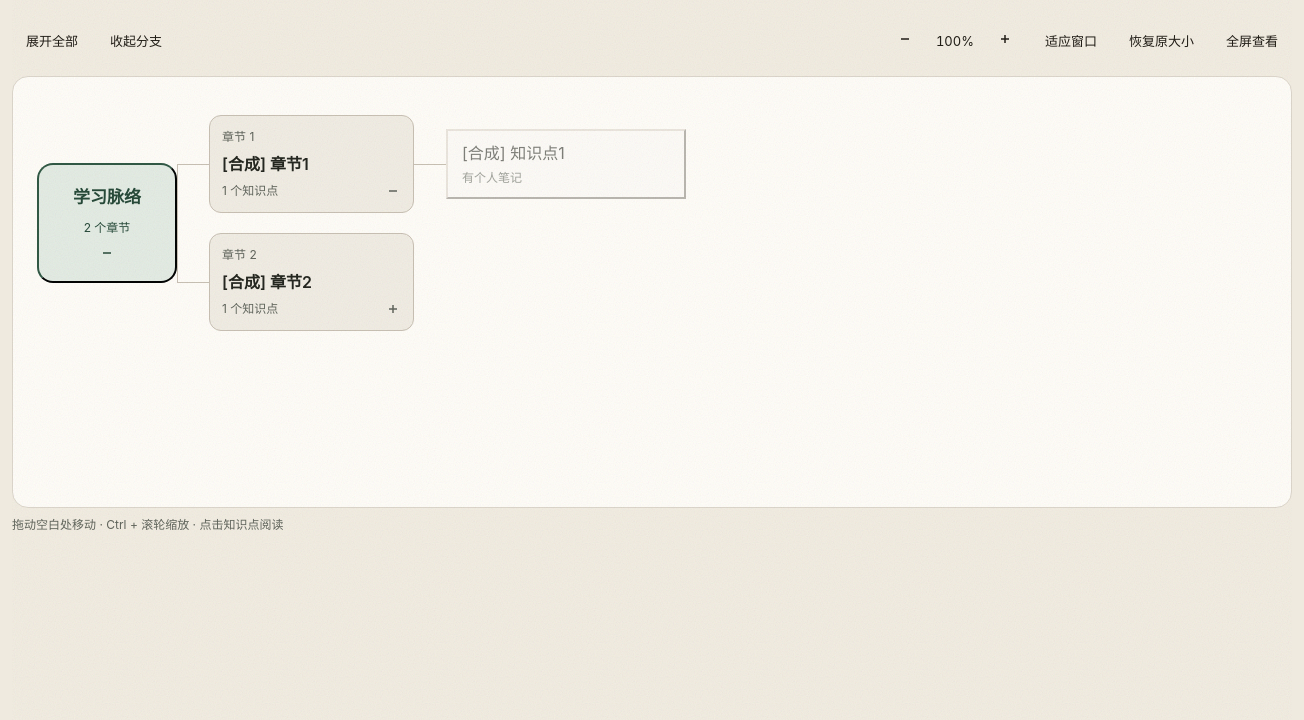
Test: fits the visible map to the viewport and keeps very large maps readable at the minimum scale
The image size is (1304, 720).
Click the button "适应窗口": (1071, 42) left=1031, top=20, right=1111, bottom=64
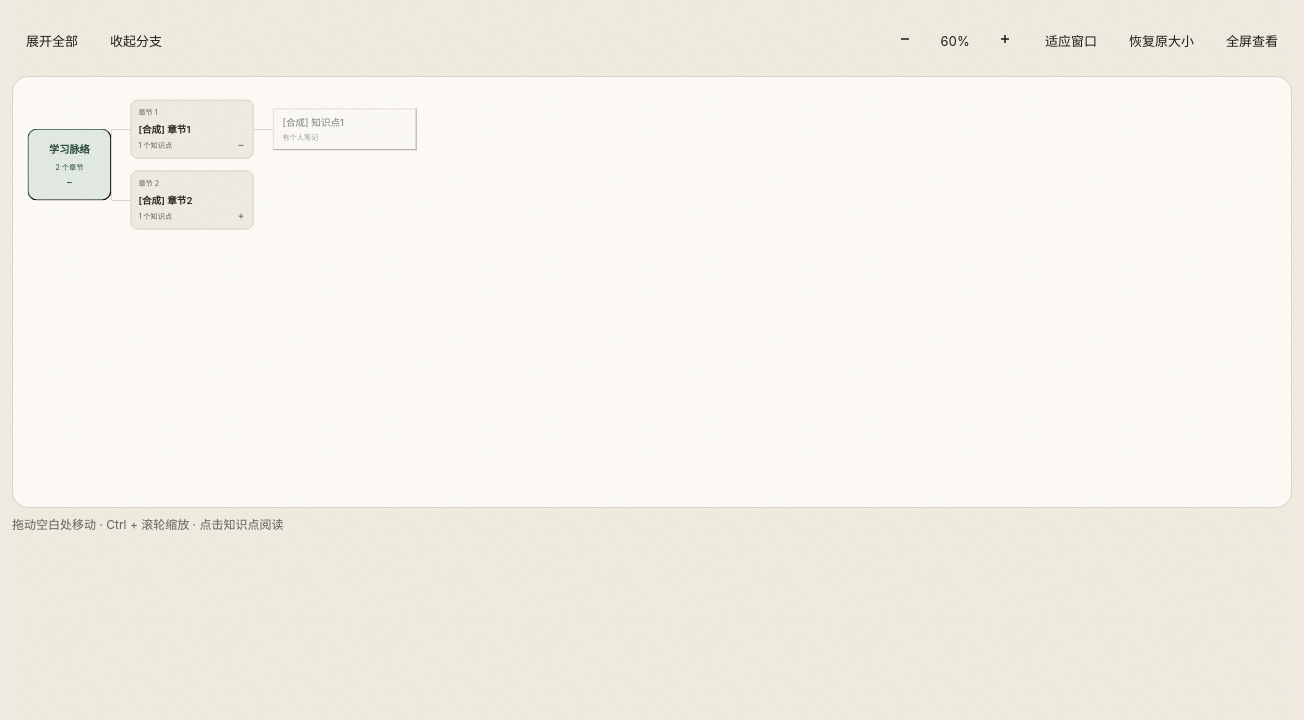
Expected: the text named "思维导图缩放比例" reads "60%", left=940, top=33, right=970, bottom=49
Click the button "适应窗口": (1071, 42) left=1031, top=20, right=1111, bottom=64
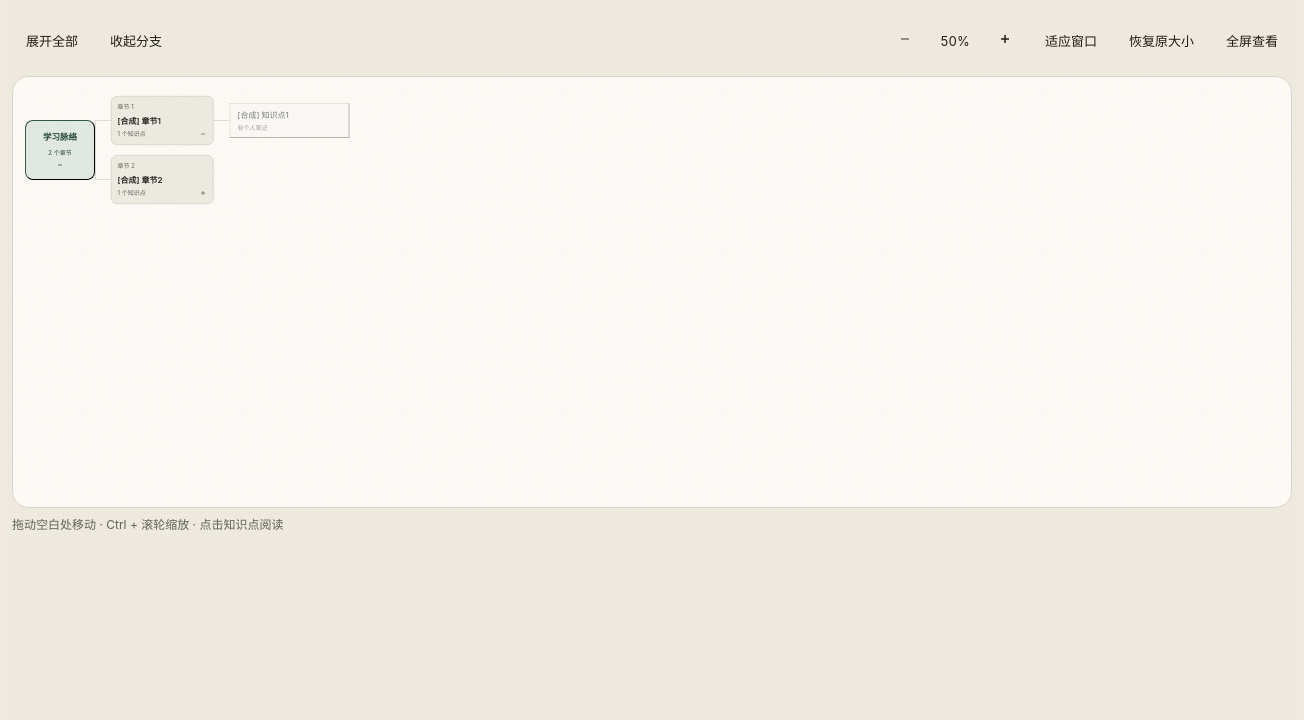
Expected: the text named "思维导图缩放比例" reads "50%", left=940, top=33, right=970, bottom=49
